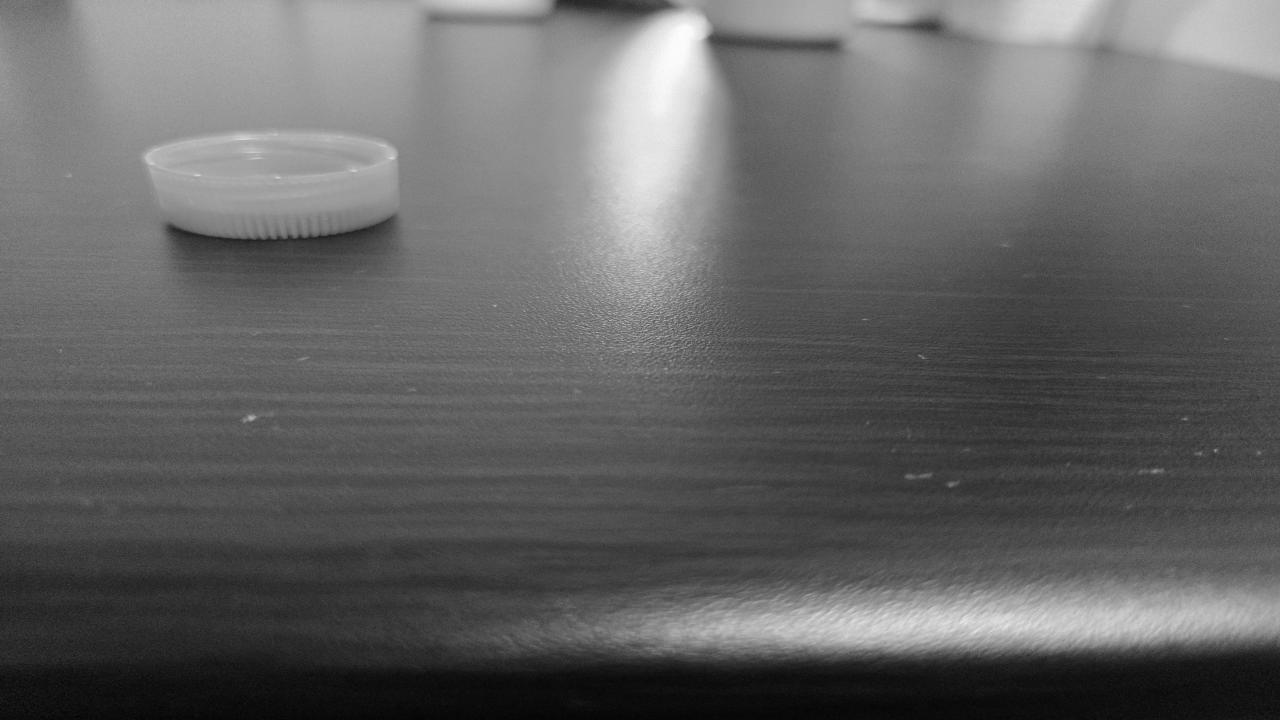bottle_cap: (149, 130, 398, 238)
